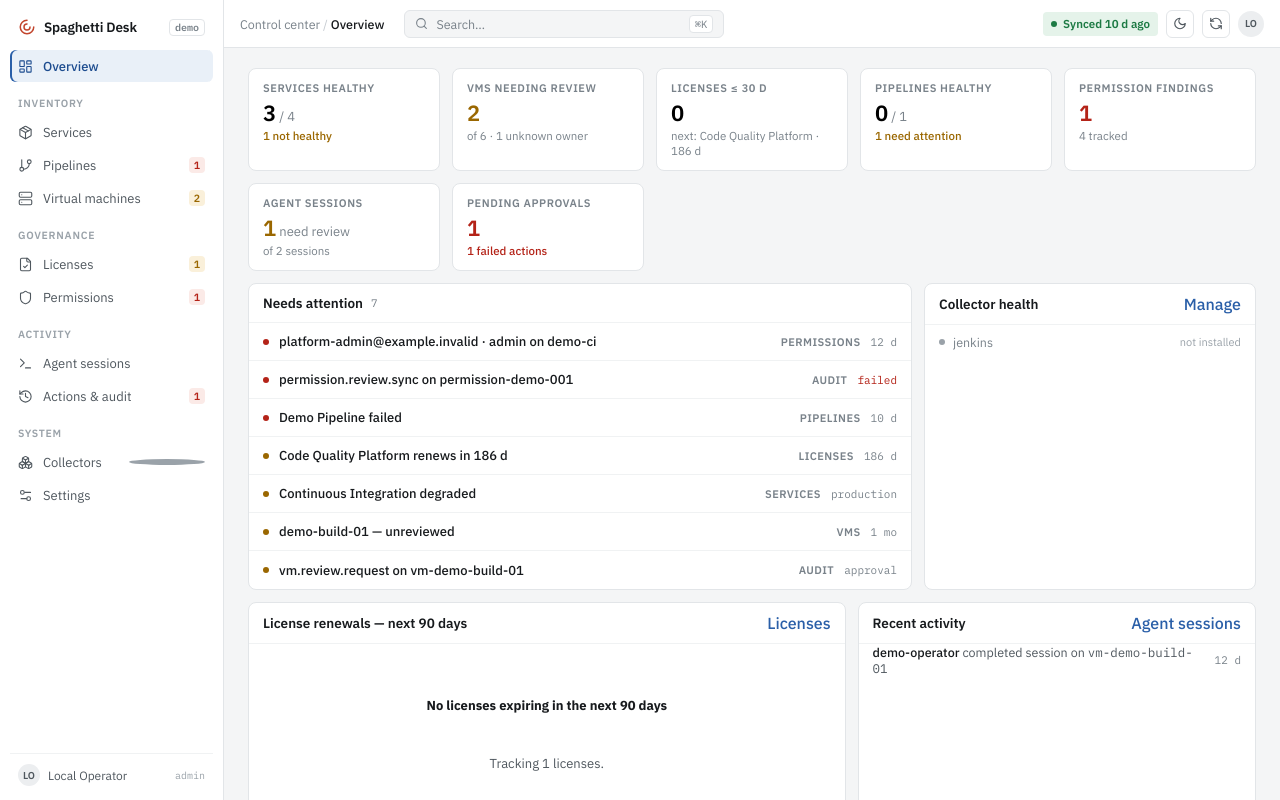
Dashboard › opens a row detail panel on selection
Click the button "Services". click: (112, 132)
box: [10,116,213,148]
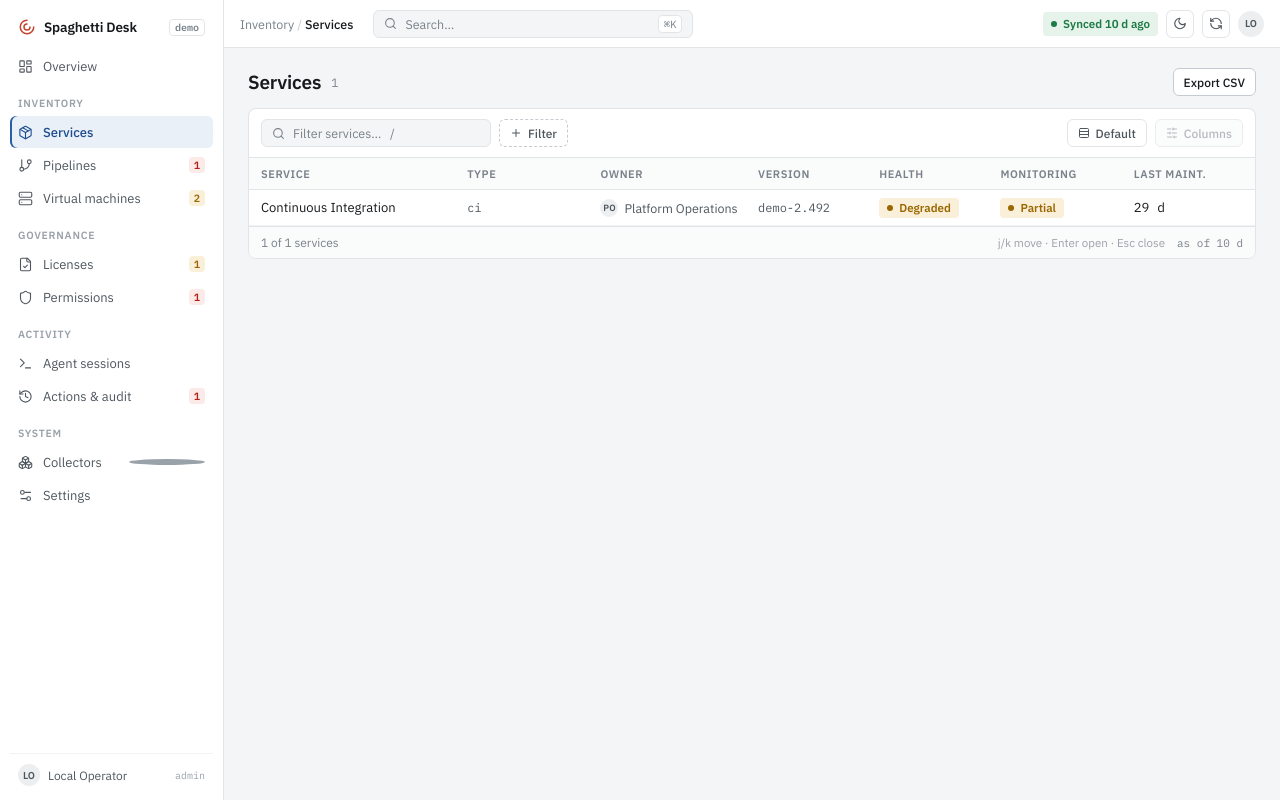
Click the button with aria-label "Open Continuous Integration". click: (328, 208)
box: [249,190,1255,226]
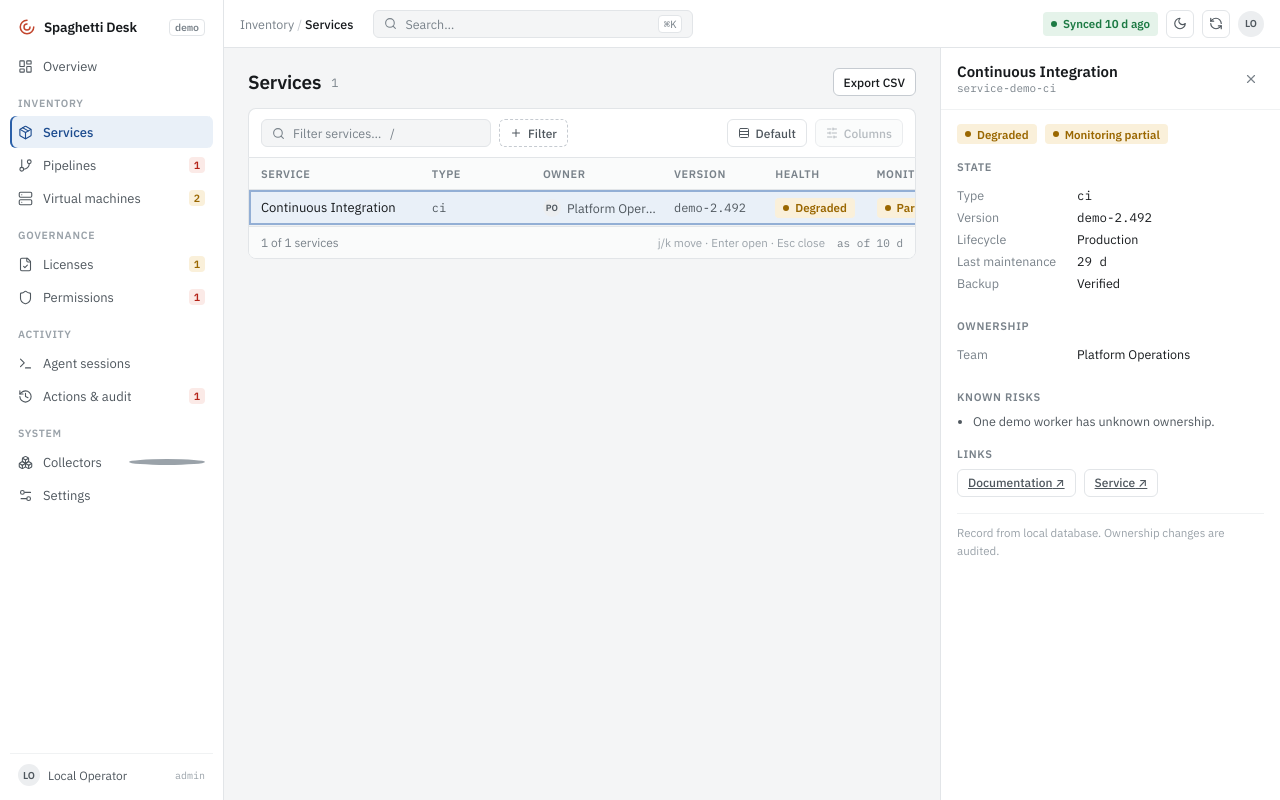
Now the element named "Continuous Integration detail" is shown, box [940,48,1279,799]
Now the list item "One demo worker has unknown ownership." is shown, box [973,413,1215,429]
